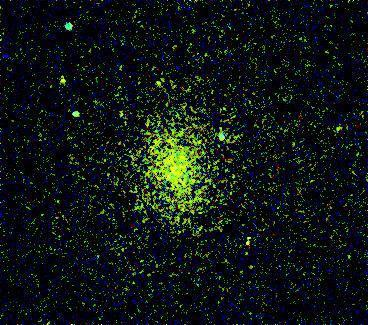star: (50, 66, 80, 96)
